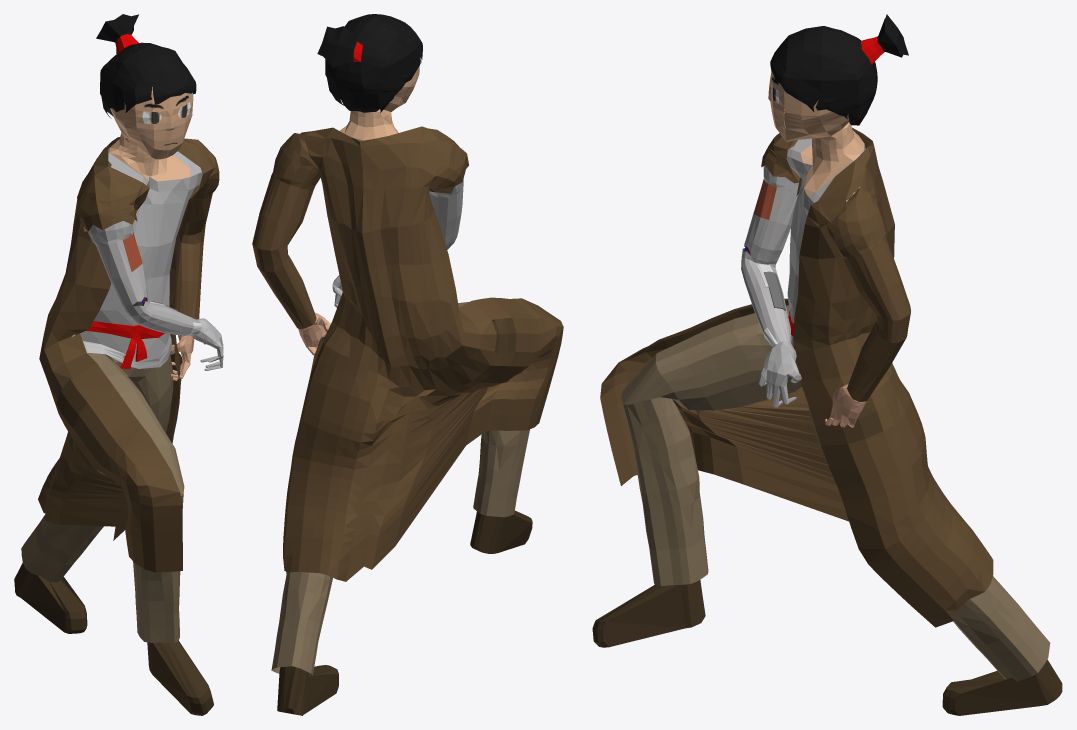
Rendered from One_RR_000001.obj.
The picture shows the model from 3 angles, left to right: view 1: azimuth 30°, elevation 25°; view 2: azimuth 150°, elevation 25°; view 3: azimuth 270°, elevation 25°; orthographic projection. The views are drawn at different scales.
Visible parts, largest first — view 1: Hair_Cube.004; view 2: Hair_Cube.004; view 3: Hair_Cube.004.
Part boxes in pixels (<box>): Hair_Cube.004: <box>14,14,223,715</box>; Hair_Cube.004: <box>252,14,563,715</box>; Hair_Cube.004: <box>592,14,1062,715</box>.
Size of the model in its own units: 1.19 by 3.66 by 2.23.
